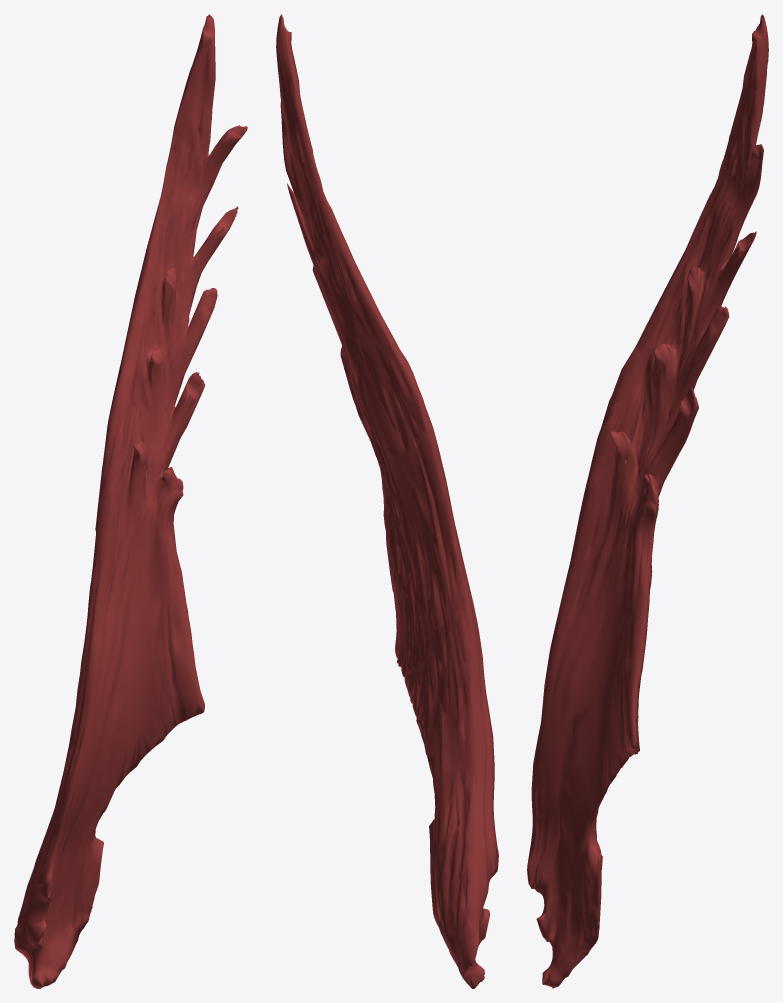
Rendered from iliocostalis-lumborum-muscle-l.glb.
3 views of the same model, side by side, from view 1: azimuth 30°, elevation 25°; view 2: azimuth 150°, elevation 25°; view 3: azimuth 330°, elevation 25° (orthographic). The views are drawn at different scales.
Parts seen in each view (by area): view 1: Iliocostalis lumborum muscle.l; view 2: Iliocostalis lumborum muscle.l; view 3: Iliocostalis lumborum muscle.l.
Part boxes in pixels (x1,y1,x2,y2): Iliocostalis lumborum muscle.l: (14,14,247,988); Iliocostalis lumborum muscle.l: (276,14,498,988); Iliocostalis lumborum muscle.l: (527,14,768,988).
Bounding box in the file's own units: 0.0946 × 0.3903 × 0.0475.
